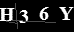3: (17, 9, 30, 24)
6: (37, 6, 50, 21)
H: (1, 7, 15, 22)
Y: (57, 6, 74, 20)
